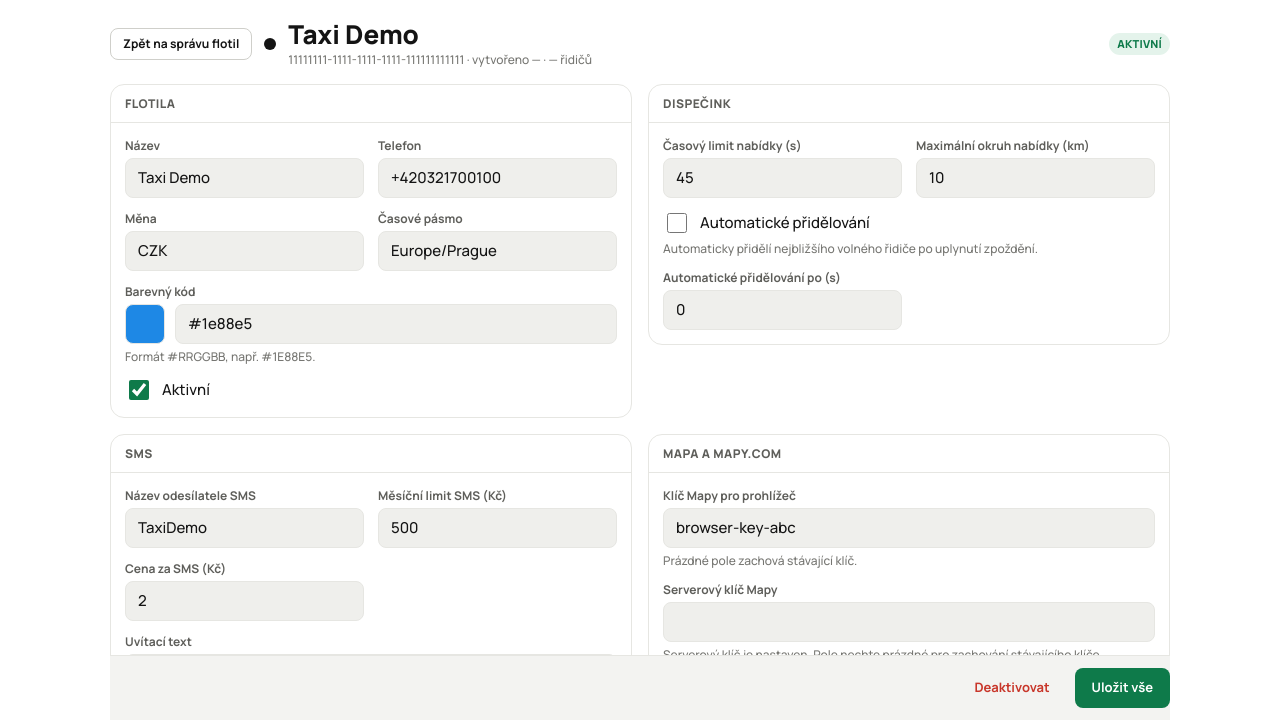
Scenario: AdminTenantSettingsPage (UC-012) › blocks submit and shows an inline error when the color hex is malformed
Expected: the field showing "Taxi Demo" is shown, [136,159,353,197]
Clear the field labelled "Barevný kód" at (396, 324), box [186,305,606,343]
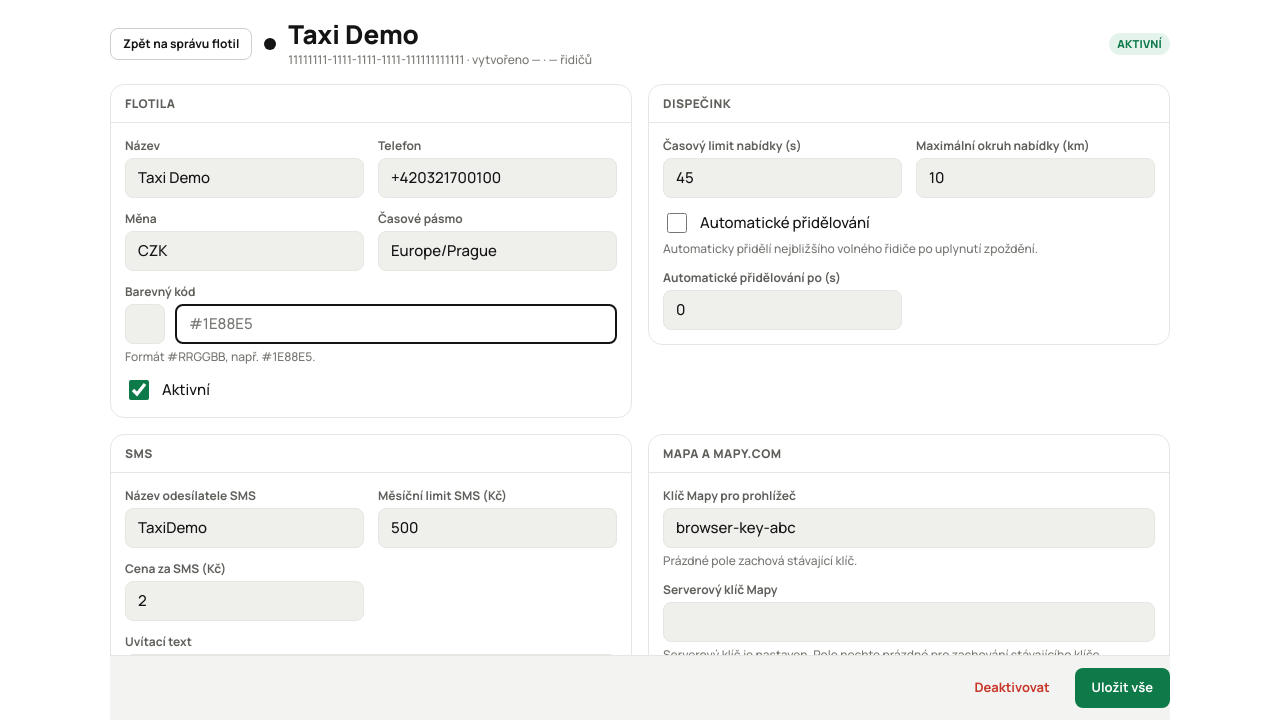
Type "notacolor" into the field labelled "Barevný kód".
click(396, 324); type("notacolor")  # box [187,306,605,342]
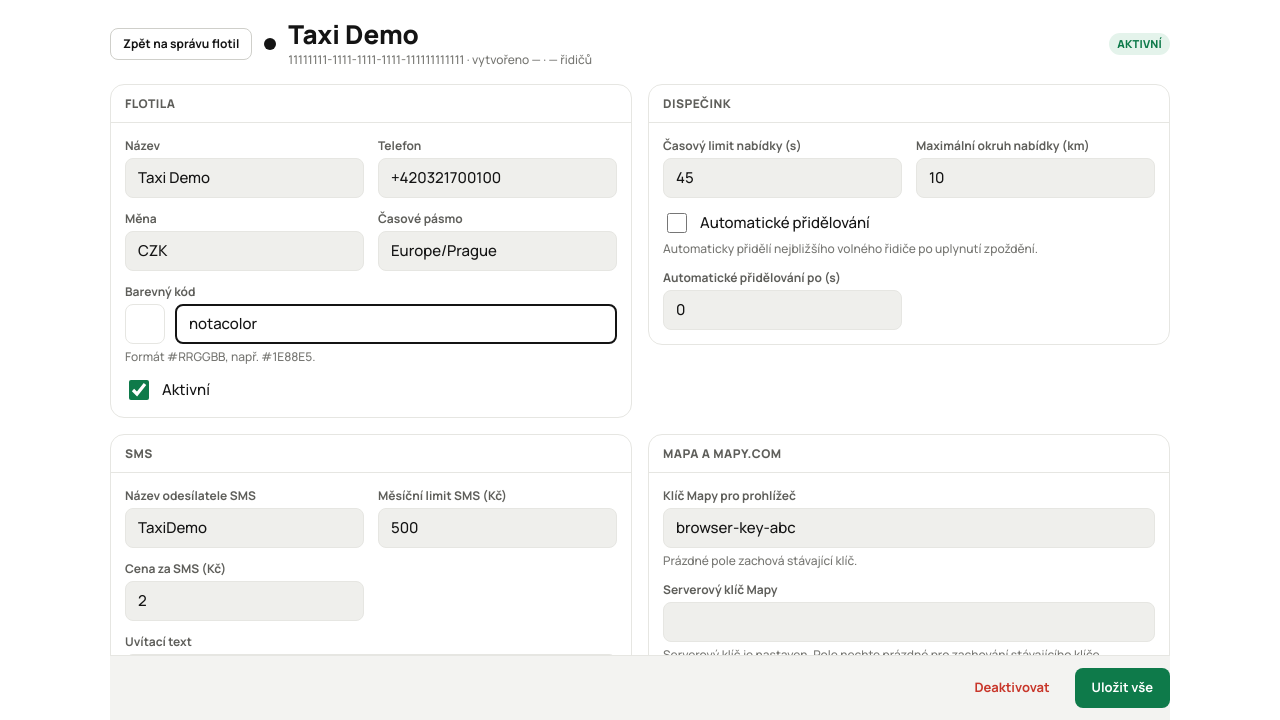
Click the button "Uložit vše".
click(1122, 688)  # box [1075,668,1170,708]
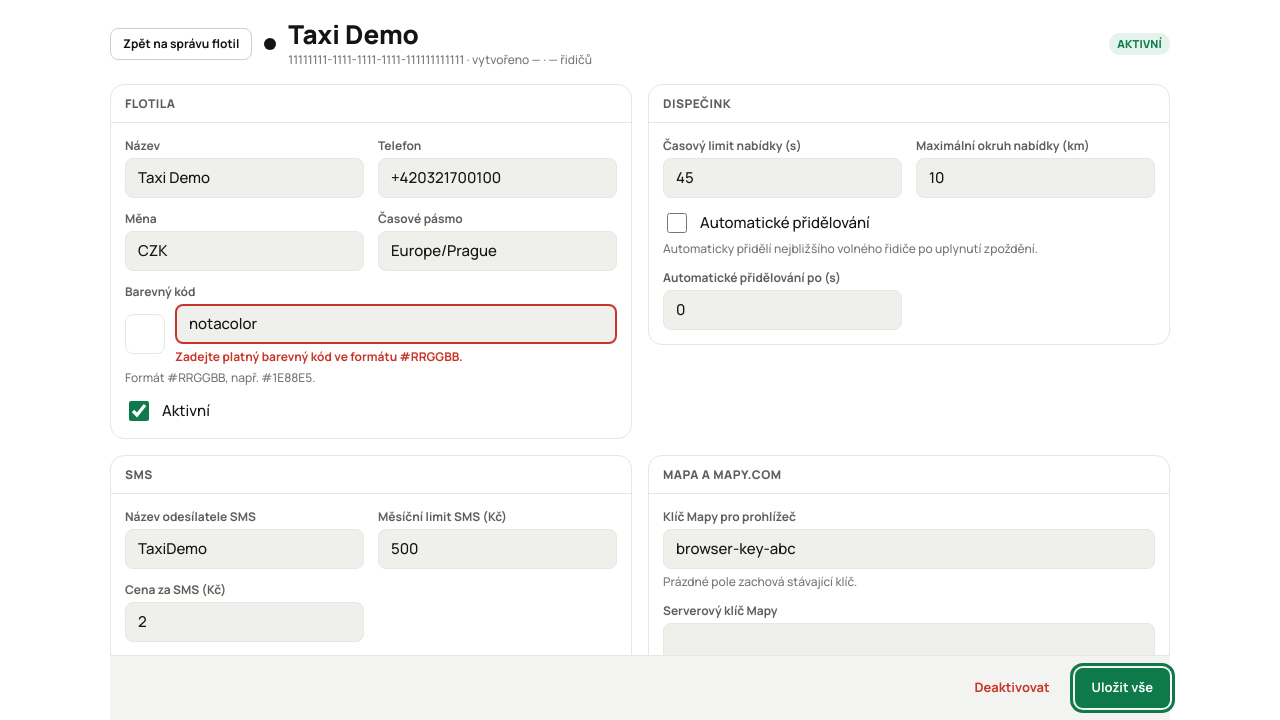
Result: the text "Zadejte platný barevný kód ve formátu #RRGGBB." is shown at [175,348,463,365]
